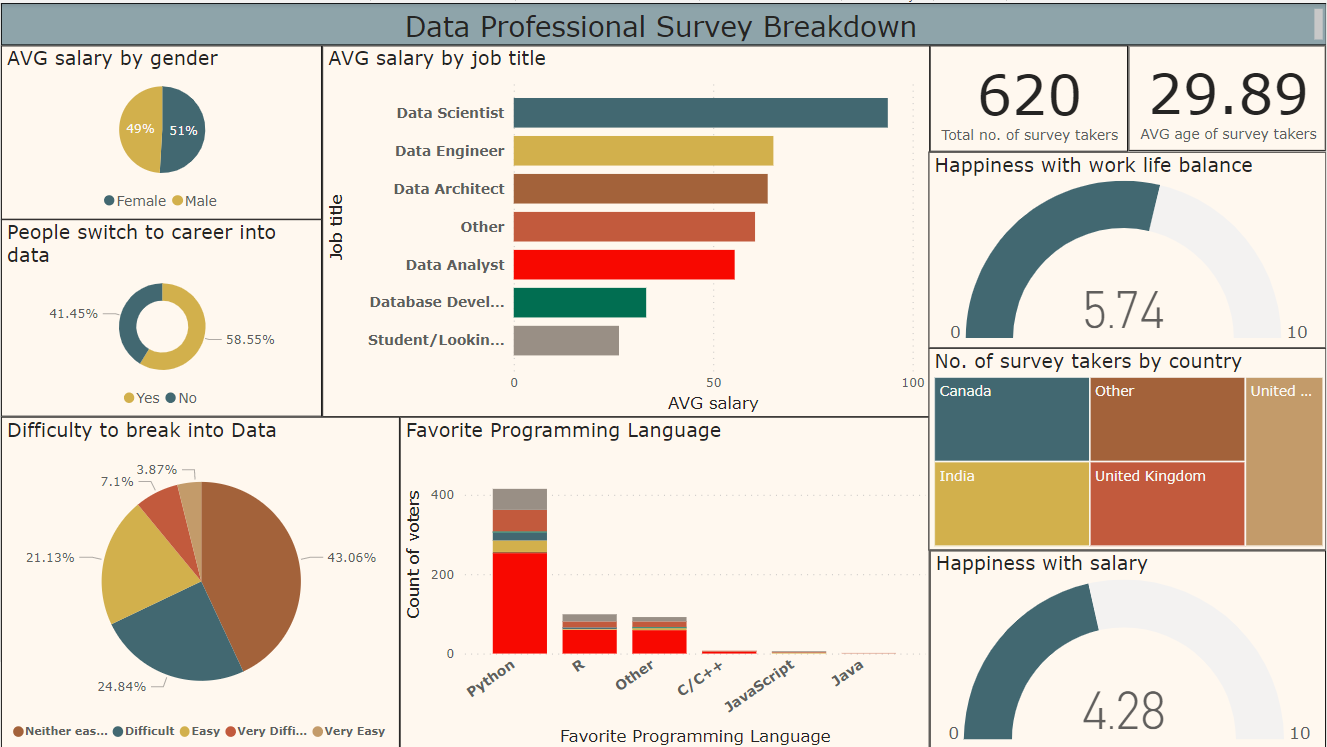

Layout of this report page (visuals, bound fields, positions):
{"tool":"powerbi","page":{"name":"Page 1","canvas":[1280,720],"ordinal":0},"visuals":[{"type":"textbox","box":[0,0,1279.8,41.2],"z":0},{"type":"card","fields":{"Values":["Count(Data Professional Survey.Unique ID)"]},"box":[896.2,41.3,191.5,102.6],"z":1000},{"type":"card","fields":{"Values":["Avg(Data Professional Survey.Q10 - Current Age)"]},"box":[1087.7,41.3,191.5,101.4],"z":2000},{"type":"barChart","title":"AVG salary by job title","fields":{"Category":["Data Professional Survey.Q1 - Which Title Best Fits your Current Role?.1"],"Y":["Avg(Data Professional Survey.Avg salary)"],"Series":["Data Professional Survey.Q1 - Which Title Best Fits your Current Role?.1"]},"box":[309.9,41,586.1,358.2],"z":3000},{"type":"columnChart","title":"Favorite Programming Language","fields":{"Category":["Data Professional Survey.Q5 - Favorite Programming Language.1"],"Y":["Count(Data Professional Survey.Unique ID)"],"Series":["Data Professional Survey.Q1 - Which Title Best Fits your Current Role?.1"]},"box":[384.7,399.2,511.4,320.8],"z":4000},{"type":"treemap","title":"No. of survey takers by country","fields":{"Group":["Data Professional Survey.Q11 - Which Country do you live in?.1"],"Values":["Count(Data Professional Survey.Q11 - Which Country do you live in?.1)"]},"box":[894.9,332.9,384.7,195.4],"z":5000},{"type":"gauge","title":"Happiness with work life balance","fields":{"Y":["Avg(Data Professional Survey.Q6 - How Happy are you in your Current Position with the following? (Work/Life Balance))"],"MinValue":["Min(Data Professional Survey.Q6 - How Happy are you in your Current Position with the following? (Work/Life Balance))"],"MaxValue":["Max(Data Professional Survey.Q6 - How Happy are you in your Current Position with the following? (Work/Life Balance))1"]},"box":[894.9,143.5,384.7,189.3],"z":6000},{"type":"gauge","title":"Happiness with salary","fields":{"Y":["Avg(Data Professional Survey.Q6 - How Happy are you in your Current Position with the following? (Salary))"],"MinValue":["Min(Data Professional Survey.Q6 - How Happy are you in your Current Position with the following? (Salary))"],"MaxValue":["Max(Data Professional Survey.Q6 - How Happy are you in your Current Position with the following? (Salary))"]},"box":[896.1,528.2,383.5,191.8],"z":6001},{"type":"pieChart","title":"AVG salary by gender","fields":{"Y":["Avg(Data Professional Survey.Avg salary)"],"Category":["Data Professional Survey.Q9 - Male/Female?"]},"box":[0,41,309.9,167.6],"z":6002},{"type":"donutChart","title":"People switch to career into data","fields":{"Category":["Data Professional Survey.Q2 - Did you switch careers into Data?"],"Y":["CountNonNull(Data Professional Survey.Q2 - Did you switch careers into Data?)"]},"box":[0,208.6,309.9,190.6],"z":6003},{"type":"pieChart","title":"Difficulty to break into Data","fields":{"Category":["Data Professional Survey.Q7 - How difficult was it for you to break into Data?"],"Y":["CountNonNull(Data Professional Survey.Q7 - How difficult was it for you to break into Data?)"]},"box":[0,399.2,384.7,320.8],"z":6004}]}

Visuals, with their boxes in screenshot pixels (x1, y1, x2, y2), scaled from the page's 1280x720 canvas onto the 1327x747 screenshot:
textbox: locate(0, 0, 1326, 43)
card - Count(Data Professional Survey.Unique ID): locate(929, 43, 1128, 149)
card - Avg(Data Professional Survey.Q10 - Current Age): locate(1128, 43, 1326, 148)
"AVG salary by job title" barChart: locate(321, 43, 929, 414)
"Favorite Programming Language" columnChart: locate(399, 414, 929, 746)
"No. of survey takers by country" treemap: locate(928, 345, 1326, 548)
"Happiness with work life balance" gauge: locate(928, 149, 1326, 345)
"Happiness with salary" gauge: locate(929, 548, 1326, 746)
"AVG salary by gender" pieChart: locate(0, 43, 321, 216)
"People switch to career into data" donutChart: locate(0, 216, 321, 414)
"Difficulty to break into Data" pieChart: locate(0, 414, 399, 746)
